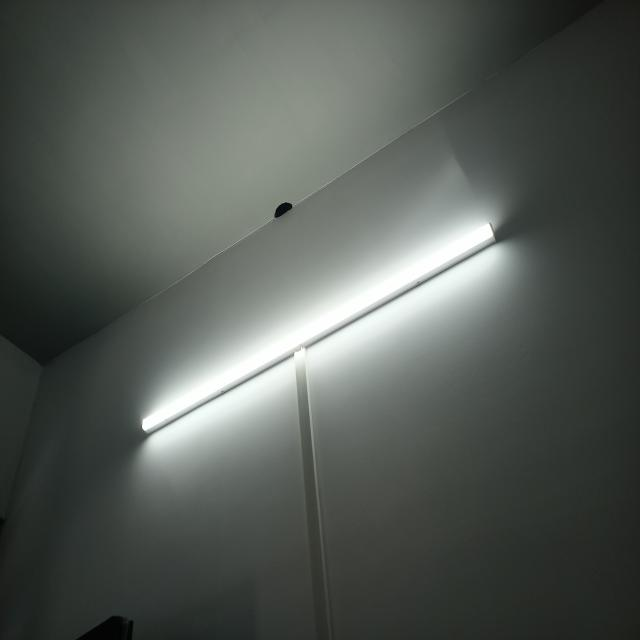light_on: (136, 215, 509, 443)
